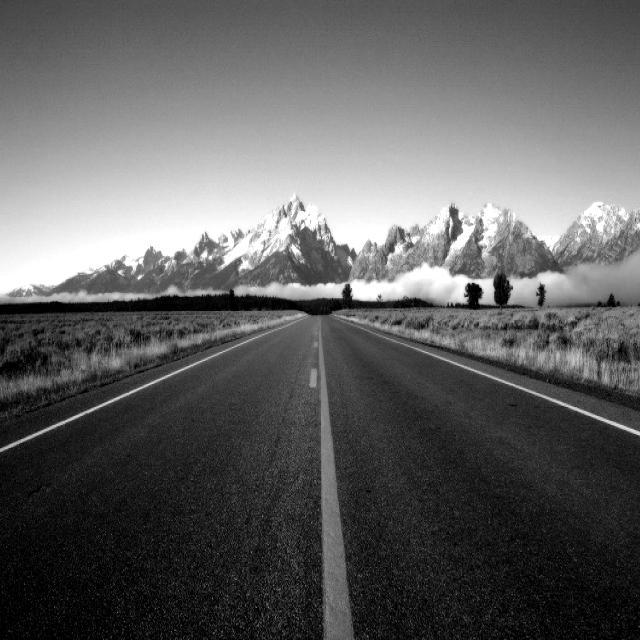cleat: (167, 261, 620, 640)
